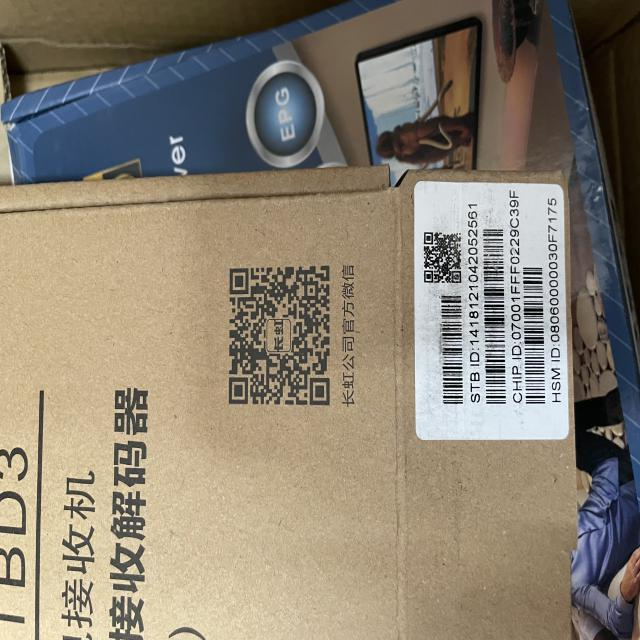qr_code: (228, 265, 329, 404)
